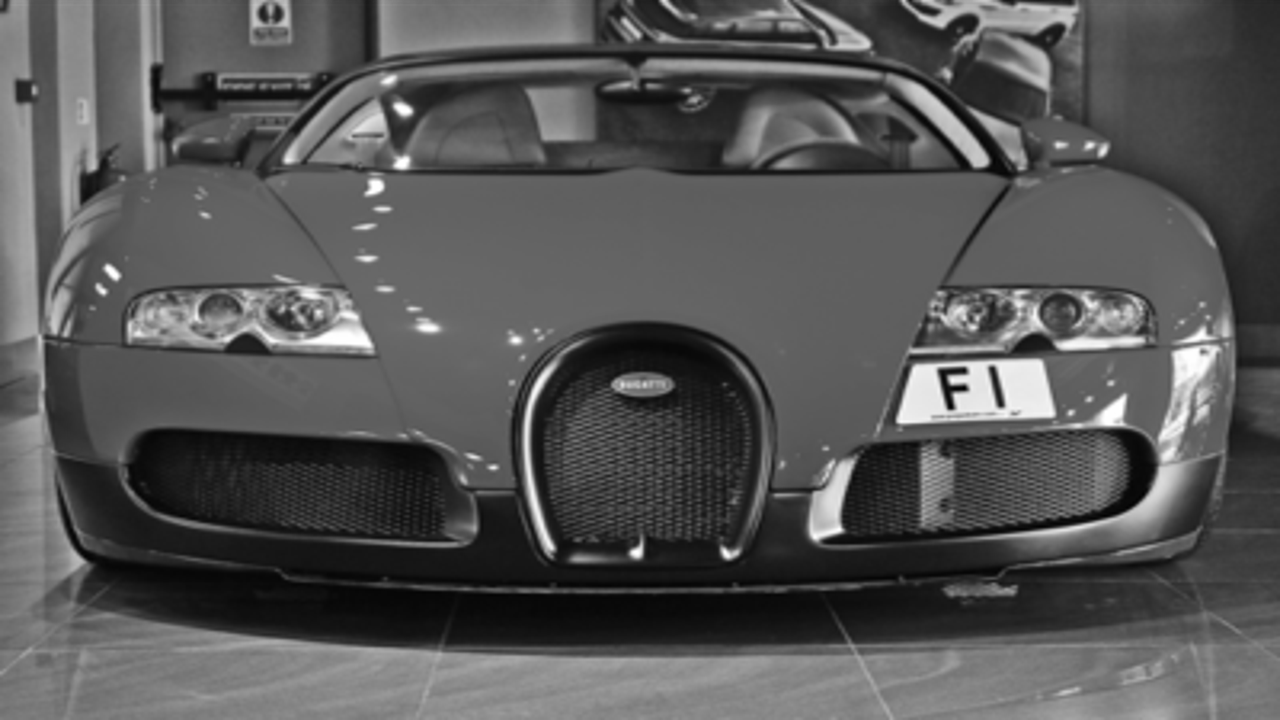license: (891, 357, 1061, 427)
